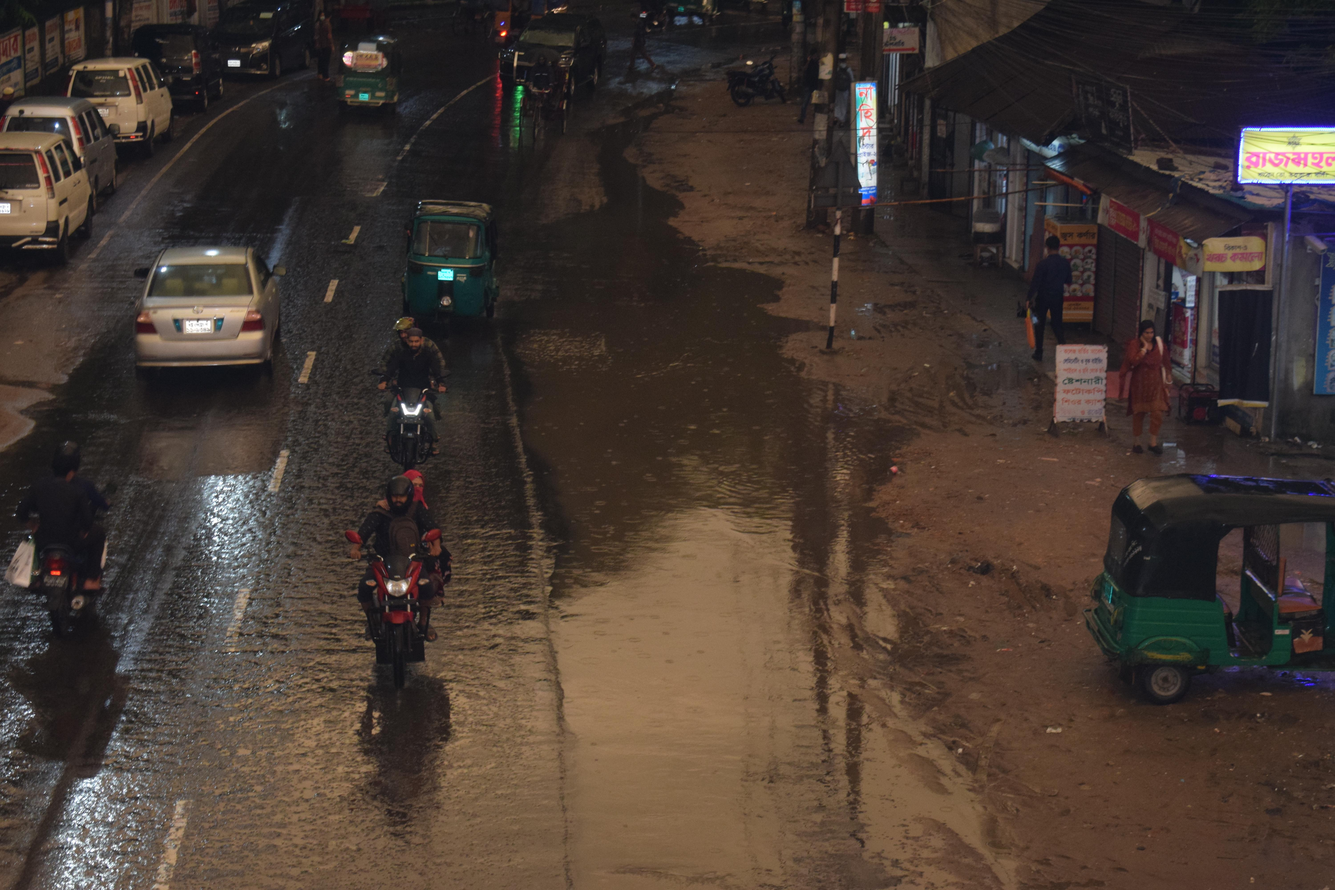Bike: (313, 449, 495, 719), (10, 401, 149, 686), (339, 282, 501, 484)
Car: (106, 206, 314, 424), (0, 115, 109, 306), (46, 32, 186, 164), (0, 78, 132, 207), (467, 0, 631, 99), (196, 0, 344, 83)
